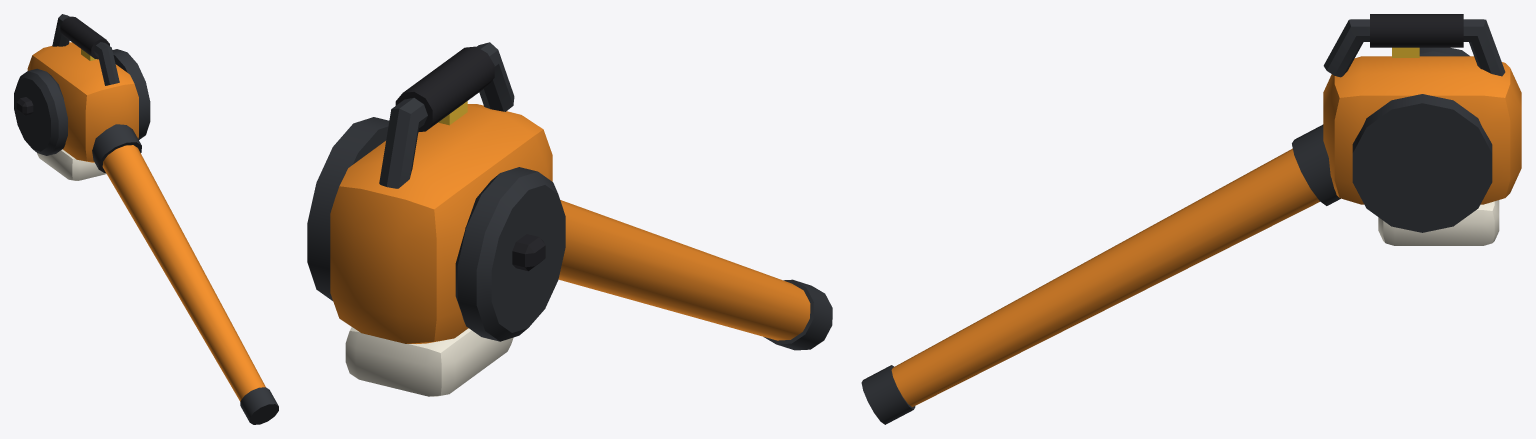
Rendered from tool_blower.glb.
3 renders of one model, left to right at view 1: azimuth 30°, elevation 25°; view 2: azimuth 150°, elevation 25°; view 3: azimuth 270°, elevation 25°, orthographic. The views are drawn at different scales.
Visible parts, largest first — view 1: Tool; view 2: Tool; view 3: Tool.
Part boxes in pixels (box(x1,y1,x2,y2)): Tool: box(14, 14, 278, 424); Tool: box(307, 42, 832, 396); Tool: box(861, 14, 1521, 424).
Bounding box in the file's own units: 0.32 × 0.8158 × 1.2.
